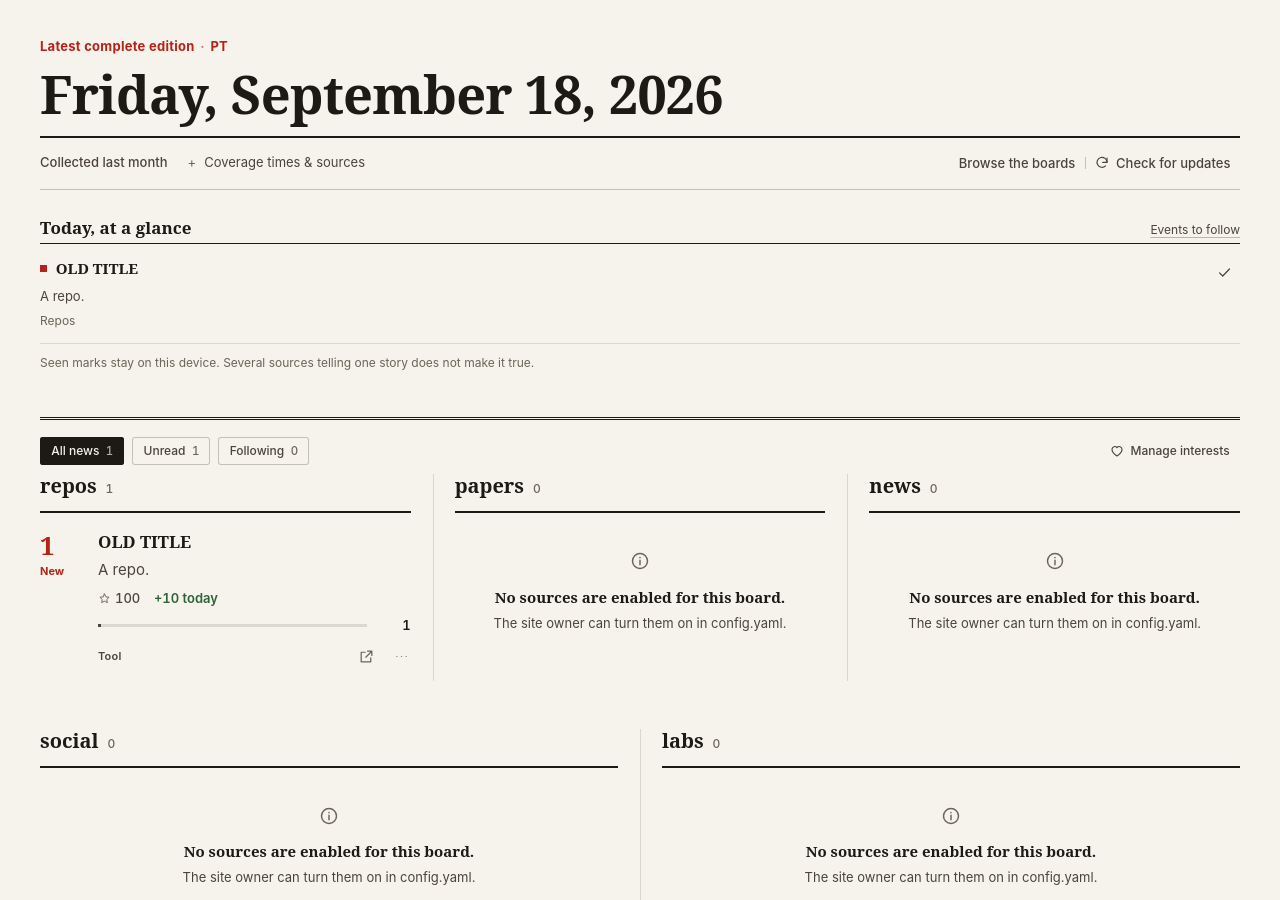
Test: refreshes a previously cached dated edition and renders the new publication
The image size is (1280, 900).
Click the button "Check for updates" at (1162, 163), box [1085, 147, 1240, 179]
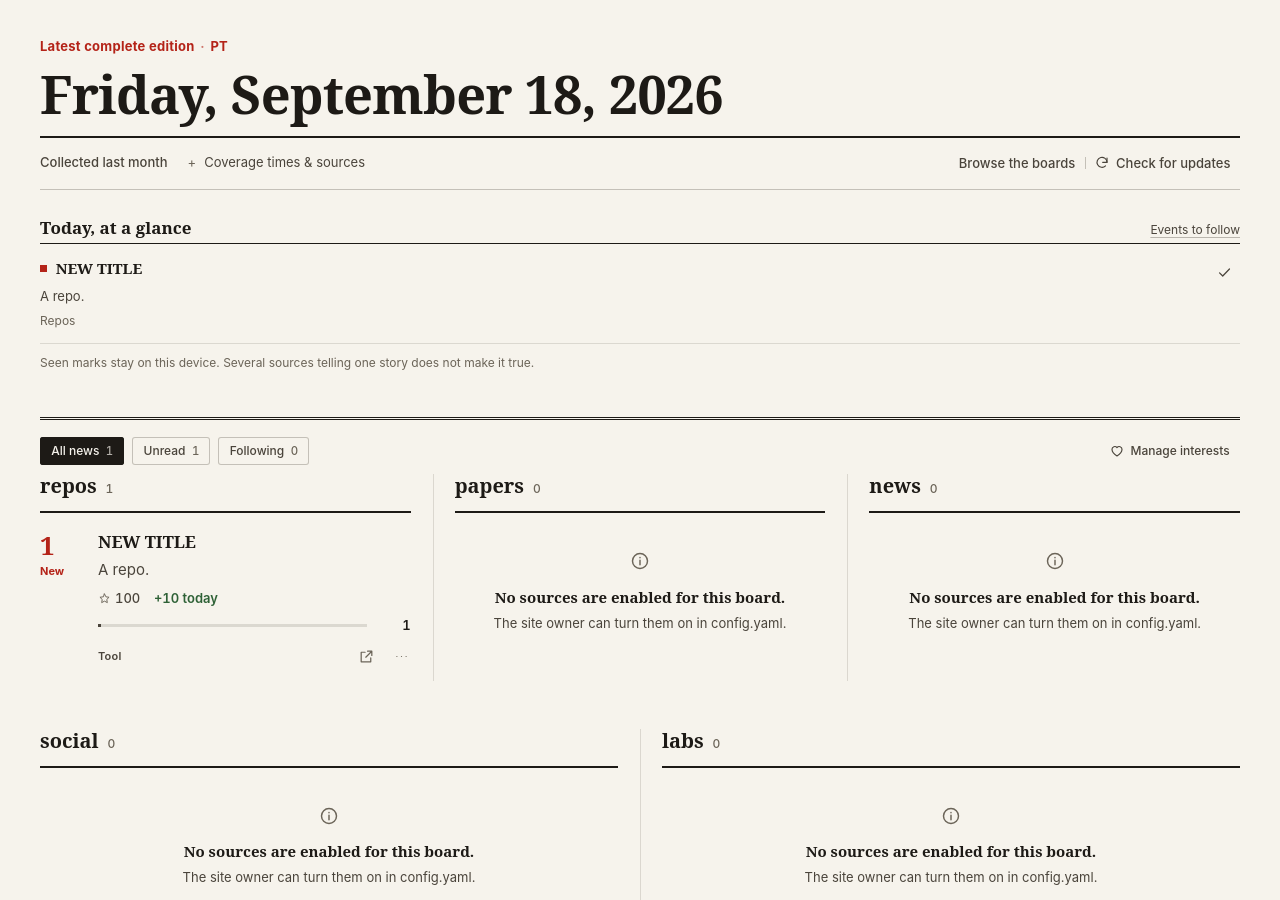
Expected: the text "NEW TITLE" is shown, [56, 258, 142, 278]
Expected: the text "OLD TITLE" is gone
